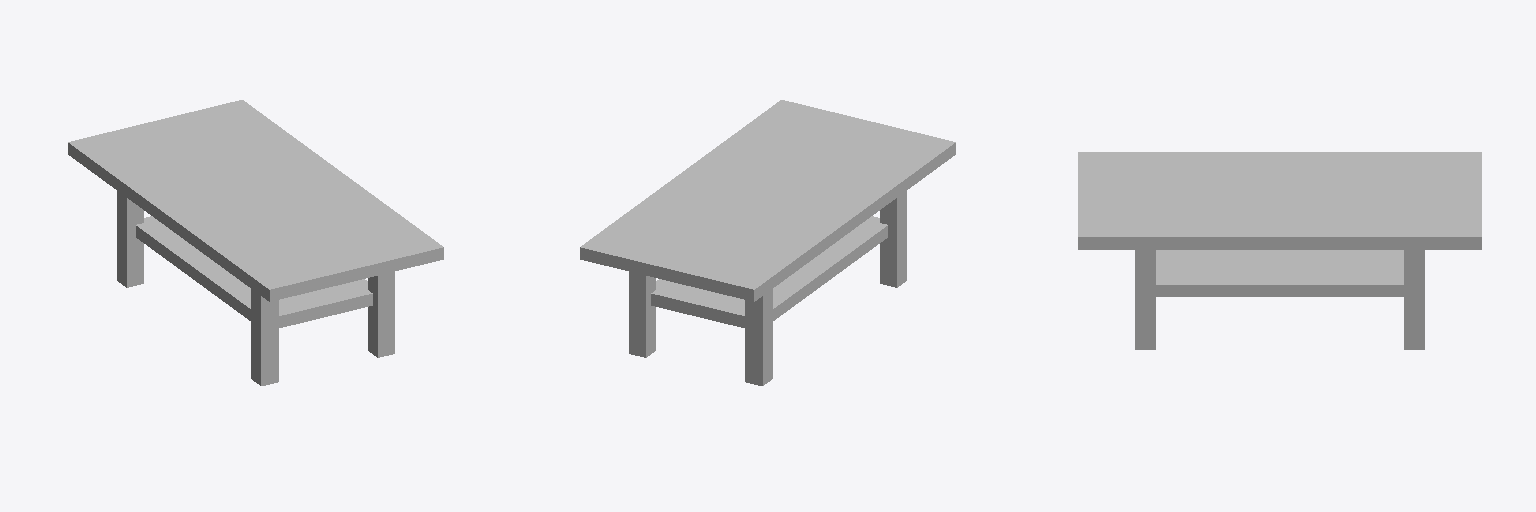
File: kleinerTisch.obj
The picture shows the model from 3 angles: view 1: azimuth 30°, elevation 25°; view 2: azimuth 150°, elevation 25°; view 3: azimuth 270°, elevation 25°; orthographic projection.
Visible parts, largest first — view 1: Cube.001, Cube.004; view 2: Cube.001, Cube.004; view 3: Cube.001, Cube.004.
Part boxes in pixels (bbox=[...]): Cube.001: bbox=[68, 100, 443, 301]; Cube.004: bbox=[117, 191, 394, 385]; Cube.001: bbox=[580, 100, 955, 301]; Cube.004: bbox=[629, 191, 906, 385]; Cube.001: bbox=[1078, 152, 1481, 249]; Cube.004: bbox=[1135, 250, 1424, 349].
Bounding box in the file's own units: 3 × 2.01 × 6.